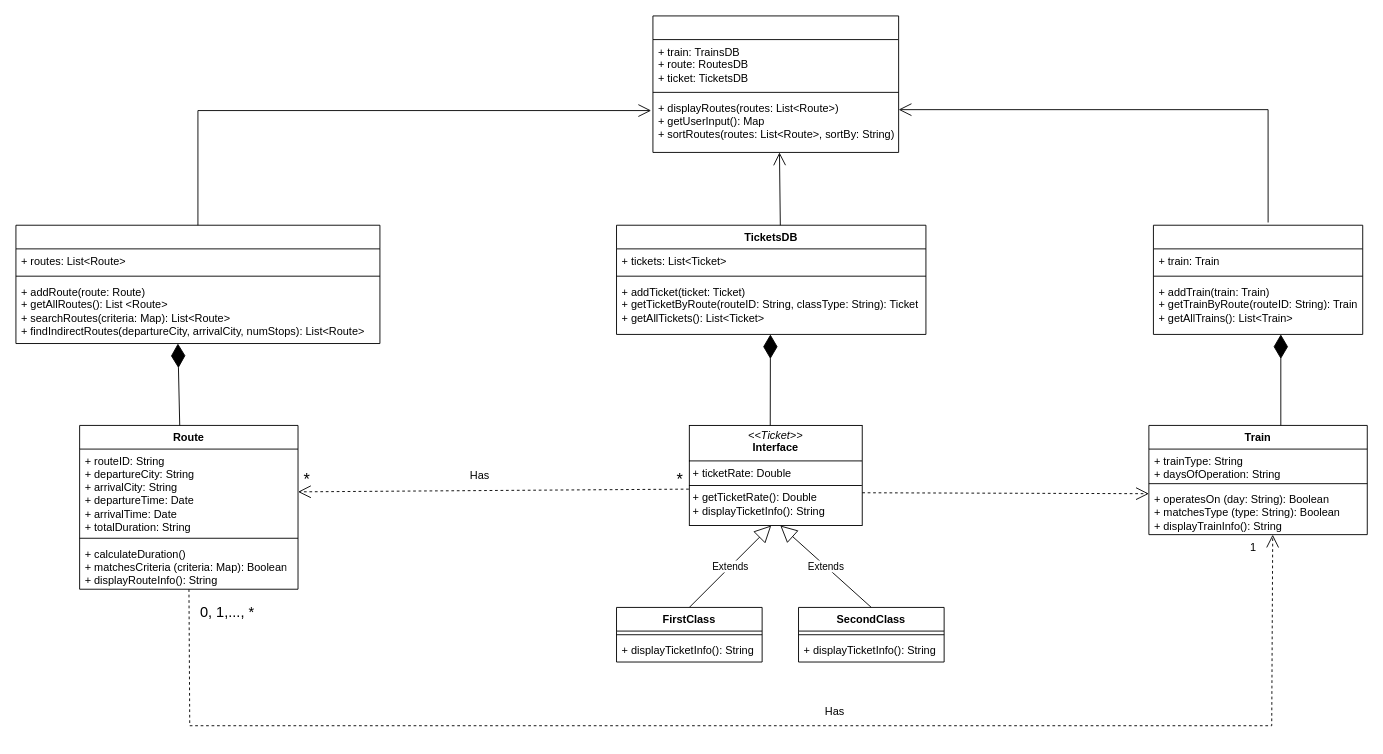
Image size: 1383x754. Some labels were removed from this diagram. The box of each missing label's shape, as (x1, y1, x2, y2) in pixels:
Console: (652, 15, 899, 152)
RoutesDB: (15, 224, 380, 344)
TrainsDB: (1153, 224, 1363, 334)
